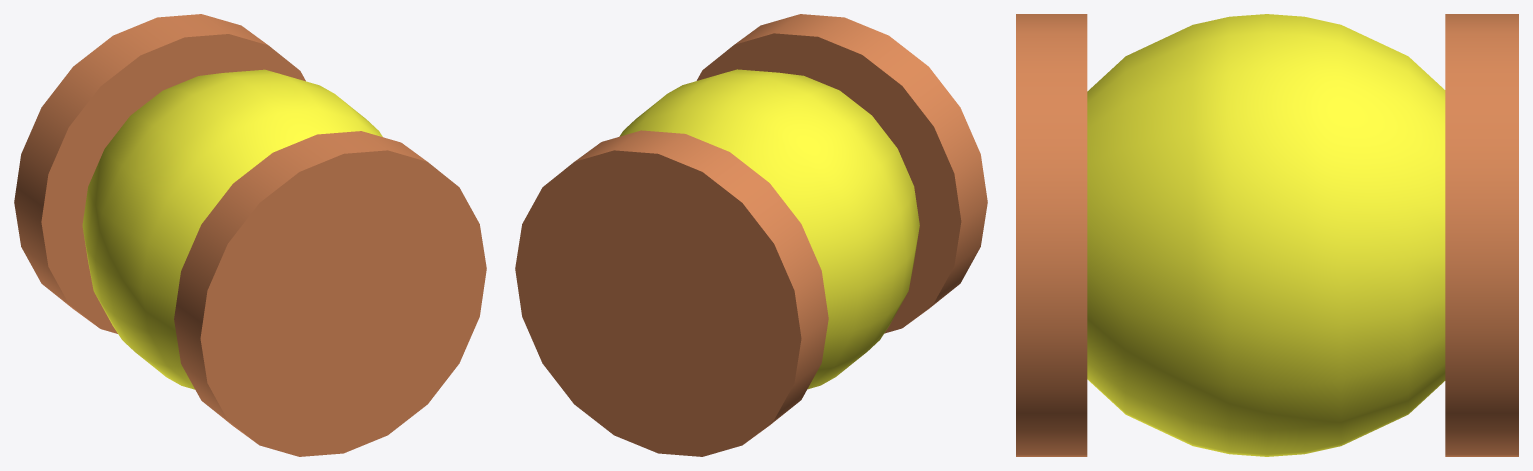
The model's file is gunlun.fbx.
The picture shows the model from 3 angles, left to right: view 1: azimuth 30°, elevation 25°; view 2: azimuth 150°, elevation 25°; view 3: azimuth 270°, elevation 25°; orthographic projection. The views are drawn at different scales.
Parts seen in each view (by area): view 1: pCylinder2, pSphere1, pCylinder3; view 2: pCylinder3, pSphere1, pCylinder2; view 3: pSphere1, pCylinder3, pCylinder2.
Part boxes in pixels (box(x1,y1,x2,y2)): pCylinder2: box(174, 131, 486, 456); pSphere1: box(82, 69, 382, 389); pCylinder3: box(14, 14, 305, 333); pCylinder3: box(515, 130, 828, 456); pSphere1: box(619, 69, 919, 389); pCylinder2: box(696, 14, 987, 333); pSphere1: box(1087, 14, 1445, 456); pCylinder3: box(1445, 14, 1518, 456); pCylinder2: box(1016, 14, 1087, 456).
Size of the model in its own units: 2 by 2.25 by 2.
